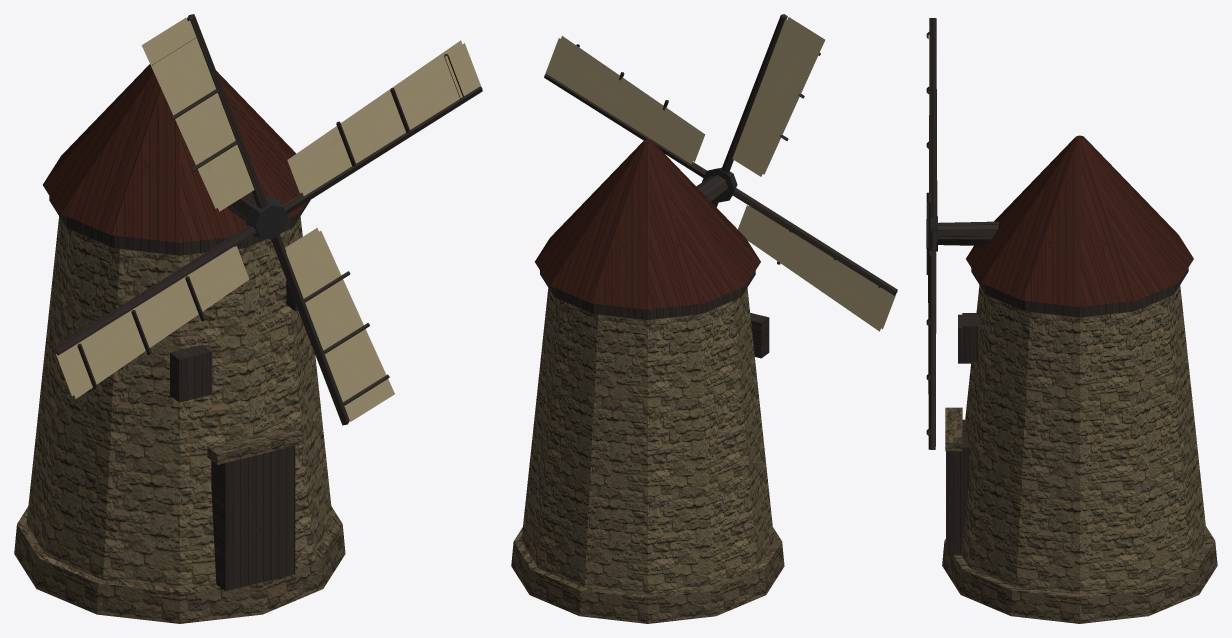
The model's file is mill_01.glb.
3 views of the same model, side by side, from view 1: azimuth 30°, elevation 25°; view 2: azimuth 150°, elevation 25°; view 3: azimuth 270°, elevation 25° (orthographic). The views are drawn at different scales.
Parts seen in each view (by area): view 1: mill_01; view 2: mill_01; view 3: mill_01.
Boxes of the visible parts, x1,y1,x2,y2 form: mill_01: (14, 14, 482, 623); mill_01: (511, 14, 897, 623); mill_01: (926, 18, 1217, 623).
Bounding box in the file's own units: 5.2 × 7.25 × 3.7.
6 materials, 6 textured.
